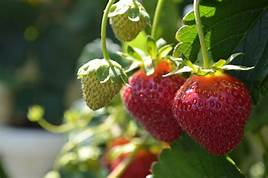Fresa: (171, 64, 255, 159), (117, 55, 192, 148)
